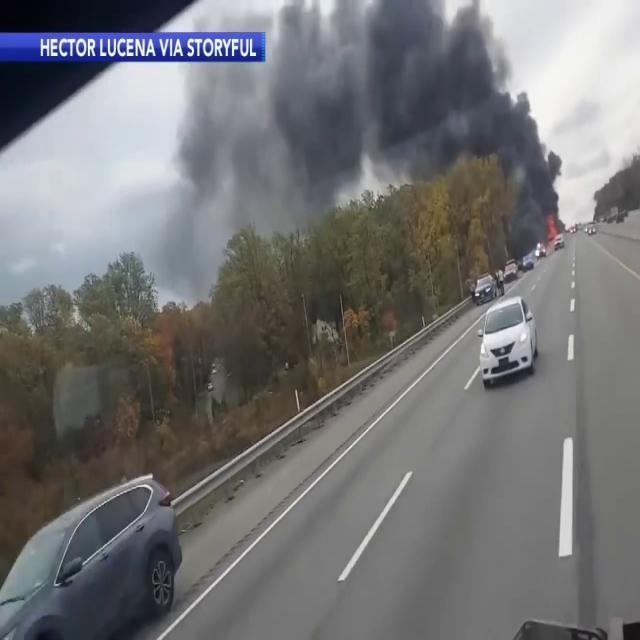Fire: (547, 218, 561, 253)
Smoke: (176, 1, 560, 239), (178, 0, 392, 257), (376, 0, 560, 224)
